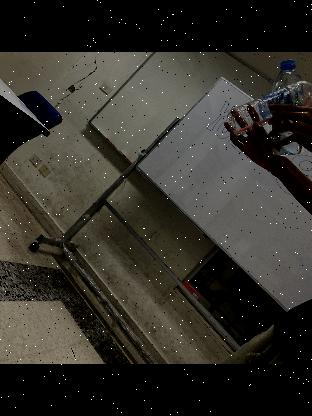Plastic Bottle: (225, 80, 312, 137), (269, 61, 303, 158)
